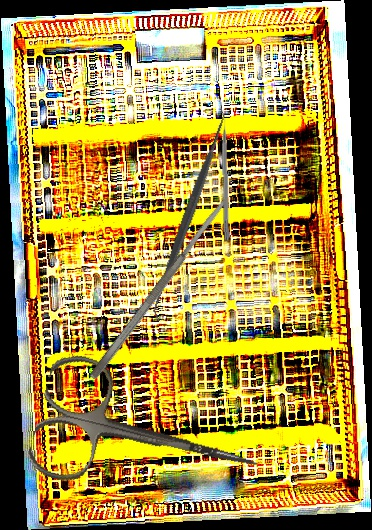Iris Scissors: (23, 347, 274, 529)
Pusher: (221, 108, 231, 241)
Spatula Surgical: (87, 196, 231, 382), (140, 107, 238, 323)
